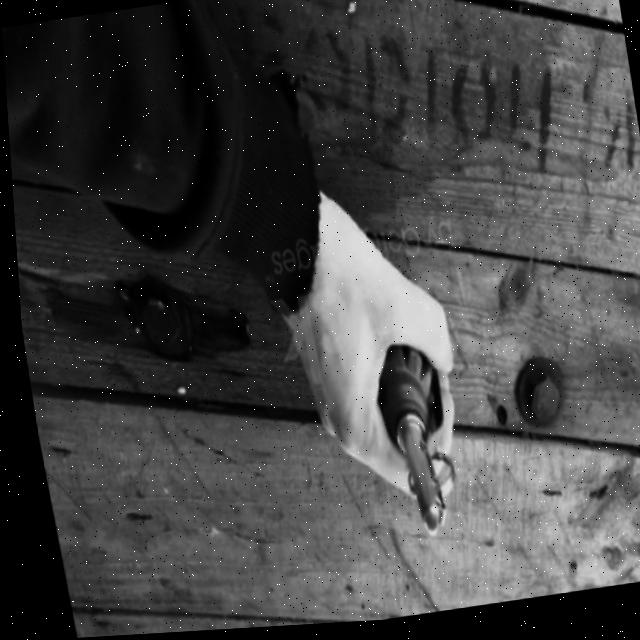grenade: (363, 344, 462, 565)
